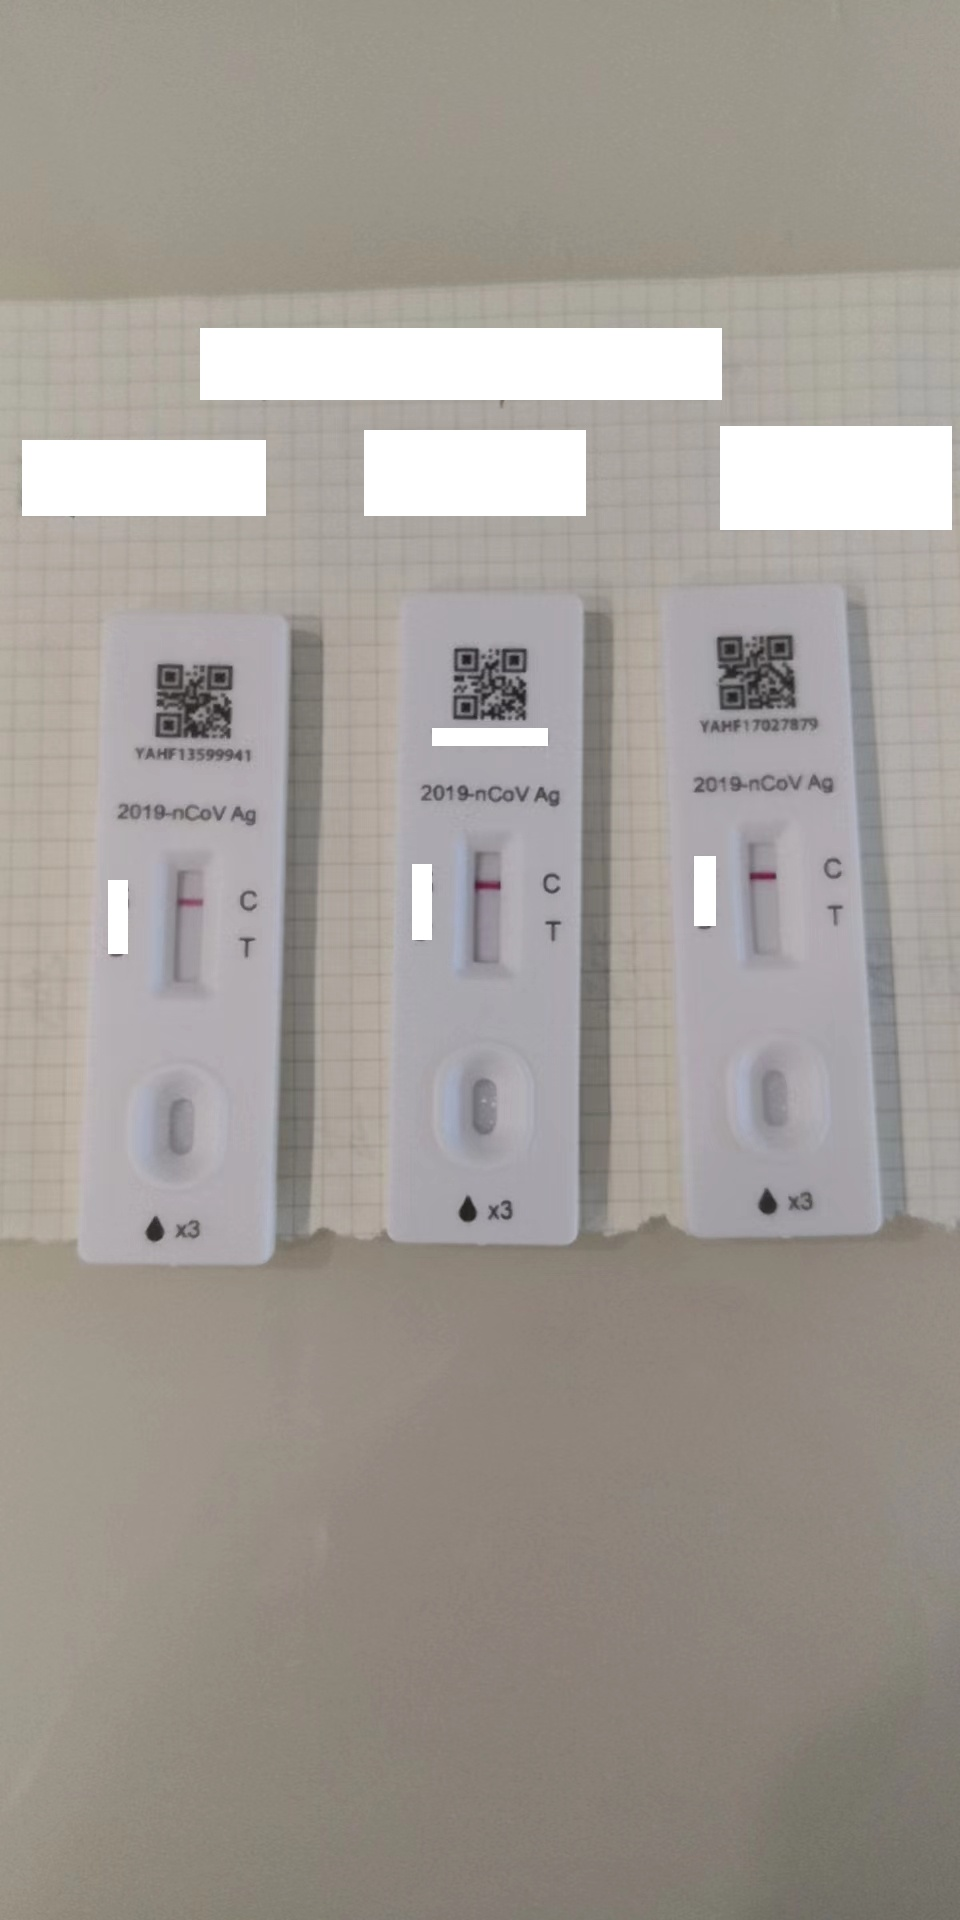negative: (735, 817, 800, 971), (459, 831, 516, 975), (160, 853, 212, 996)
